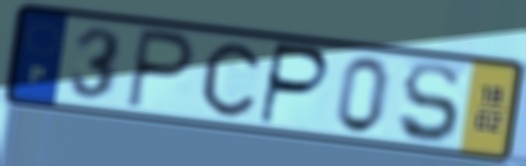0: (332, 53, 393, 137)
3: (67, 26, 125, 103)
C: (199, 40, 263, 119)
P: (255, 40, 333, 129), (122, 24, 198, 113)
S: (396, 59, 463, 147)
